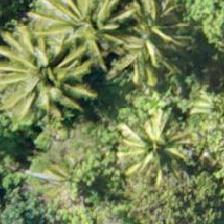coconut_tree: (87, 87, 177, 177), (86, 73, 176, 163), (105, 0, 195, 84), (26, 0, 116, 82), (0, 23, 78, 113), (54, 0, 144, 78), (0, 52, 66, 142)
